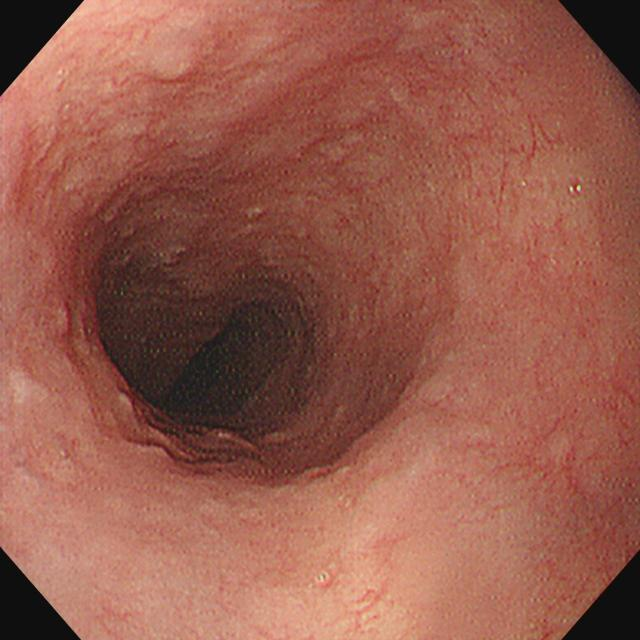E: (96, 257, 311, 447)
